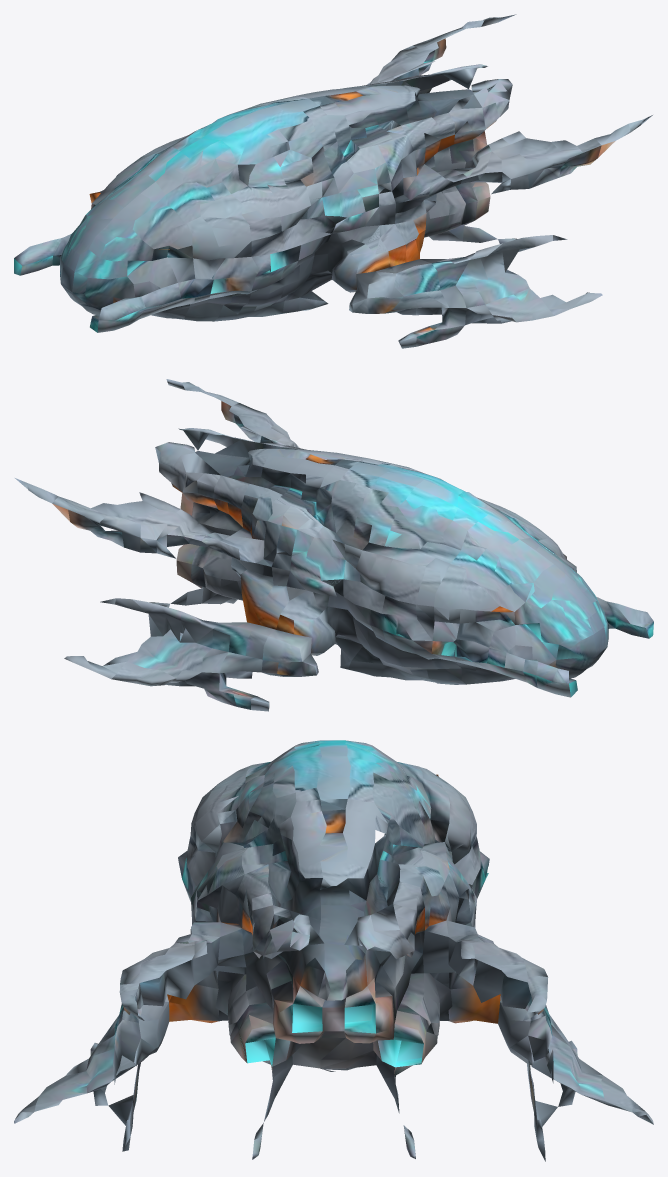
The model's file is alien_fighter_lo.glb.
3 renders of one model, top to bottom at view 1: azimuth 30°, elevation 25°; view 2: azimuth 150°, elevation 25°; view 3: azimuth 270°, elevation 25°, orthographic. The views are drawn at different scales.
Visible parts, largest first — view 1: model; view 2: model; view 3: model.
Boxes of the visible parts, bbox=[...] form: model: bbox=[14, 14, 652, 348]; model: bbox=[15, 379, 653, 711]; model: bbox=[14, 740, 653, 1161].
Size of the model in its own units: 0.9891 by 0.3478 by 0.746.
1 material, 1 textured.
